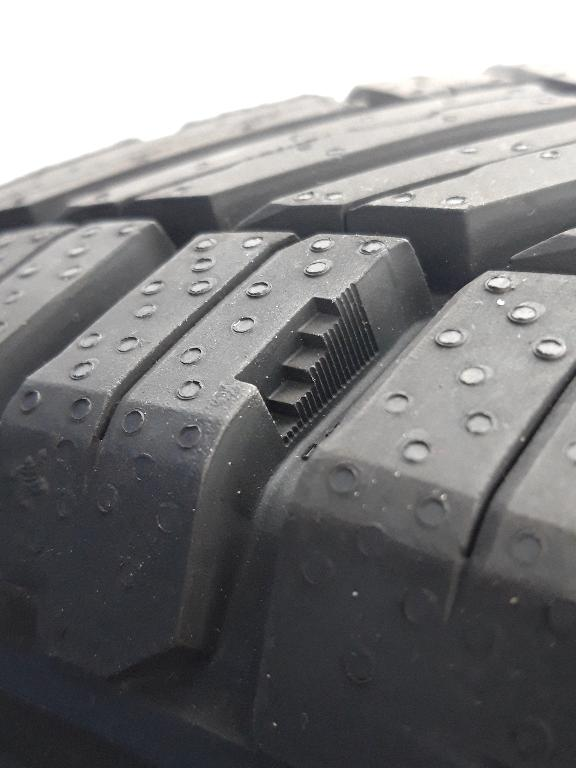temoin:100: (226, 273, 388, 456)
